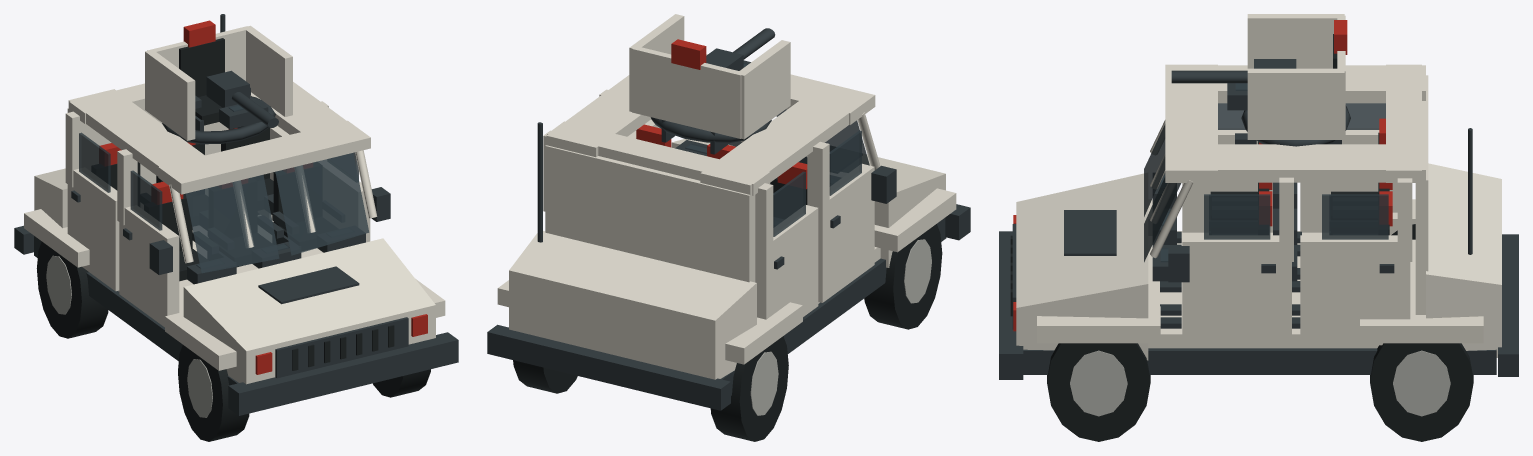
3 views of the same model, side by side, from view 1: azimuth 30°, elevation 25°; view 2: azimuth 150°, elevation 25°; view 3: azimuth 270°, elevation 25° (orthographic). The views are drawn at different scales.
Visible parts, largest first — view 1: humvee-fleet-armor, humvee-fleet-machine, humvee-fleet-glass, turret-fleet-armor, crew-chair-front-center-painted, crew-chair-passenger-painted, crew-chair-gunner-painted, wheel--1--1.54-fleet-rubber, wheel--1-1.52-fleet-rubber, crew-chair-driver-painted, barrel-fleet-machine, turret-fleet-machine (+8 smaller); view 2: humvee-fleet-armor, humvee-fleet-machine, turret-fleet-armor, wheel--1-1.52-fleet-rubber, wheel--1--1.54-fleet-rubber, humvee-fleet-glass, crew-chair-driver-painted, wheel--1-1.52-fleet-edge, wheel--1--1.54-fleet-edge, wheel-1--1.54-fleet-rubber, crew-chair-gunner-painted, barrel-fleet-machine (+2 smaller); view 3: humvee-fleet-armor, humvee-fleet-machine, turret-fleet-armor, humvee-fleet-glass, wheel-1--1.54-fleet-rubber, wheel-1-1.52-fleet-rubber, wheel-1--1.54-fleet-edge, wheel-1-1.52-fleet-edge, crew-chair-rear-left-painted, crew-chair-front-center-painted, crew-chair-passenger-painted, crew-chair-driver-painted (+5 smaller).
Part boxes in pixels (x1=…): humvee-fleet-armor: x1=24, y1=82, x2=445, y2=384; humvee-fleet-machine: x1=14, y1=14, x2=458, y2=415; humvee-fleet-glass: x1=79, y1=132, x2=369, y2=273; turret-fleet-armor: x1=145, y1=25, x2=292, y2=140; crew-chair-front-center-painted: x1=208, y1=178, x2=300, y2=273; crew-chair-passenger-painted: x1=272, y1=162, x2=365, y2=257; crew-chair-gunner-painted: x1=179, y1=20, x2=268, y2=131; wheel--1--1.54-fleet-rubber: x1=36, y1=241, x2=108, y2=338; wheel--1-1.52-fleet-rubber: x1=178, y1=345, x2=249, y2=441; crew-chair-driver-painted: x1=144, y1=181, x2=235, y2=284; barrel-fleet-machine: x1=206, y1=70, x2=278, y2=127; turret-fleet-machine: x1=162, y1=96, x2=275, y2=144; humvee-fleet-armor: x1=497, y1=54, x2=956, y2=379; humvee-fleet-machine: x1=487, y1=122, x2=970, y2=410; turret-fleet-armor: x1=629, y1=14, x2=790, y2=139; wheel--1-1.52-fleet-rubber: x1=864, y1=224, x2=942, y2=329; wheel--1--1.54-fleet-rubber: x1=710, y1=336, x2=788, y2=441; humvee-fleet-glass: x1=728, y1=109, x2=869, y2=236; crew-chair-driver-painted: x1=770, y1=162, x2=840, y2=218; wheel--1-1.52-fleet-edge: x1=904, y1=239, x2=931, y2=303; wheel--1--1.54-fleet-edge: x1=750, y1=351, x2=778, y2=415; wheel-1--1.54-fleet-rubber: x1=513, y1=360, x2=577, y2=393; crew-chair-gunner-painted: x1=661, y1=39, x2=750, y2=154; barrel-fleet-machine: x1=706, y1=28, x2=775, y2=70; humvee-fleet-armor: x1=1016, y1=64, x2=1501, y2=360; humvee-fleet-machine: x1=999, y1=128, x2=1518, y2=379; turret-fleet-armor: x1=1247, y1=14, x2=1345, y2=139; humvee-fleet-glass: x1=1144, y1=103, x2=1388, y2=262; wheel-1--1.54-fleet-rubber: x1=1370, y1=343, x2=1473, y2=441; wheel-1-1.52-fleet-rubber: x1=1047, y1=343, x2=1150, y2=441; wheel-1--1.54-fleet-edge: x1=1393, y1=350, x2=1450, y2=416; wheel-1-1.52-fleet-edge: x1=1070, y1=350, x2=1127, y2=416; crew-chair-rear-left-painted: x1=1273, y1=118, x2=1385, y2=256; crew-chair-front-center-painted: x1=1152, y1=182, x2=1272, y2=292; crew-chair-passenger-painted: x1=1152, y1=191, x2=1272, y2=328; crew-chair-driver-painted: x1=1152, y1=142, x2=1262, y2=245.
Bounding box in the file's own units: 15.81 × 20.28 × 26.84.
